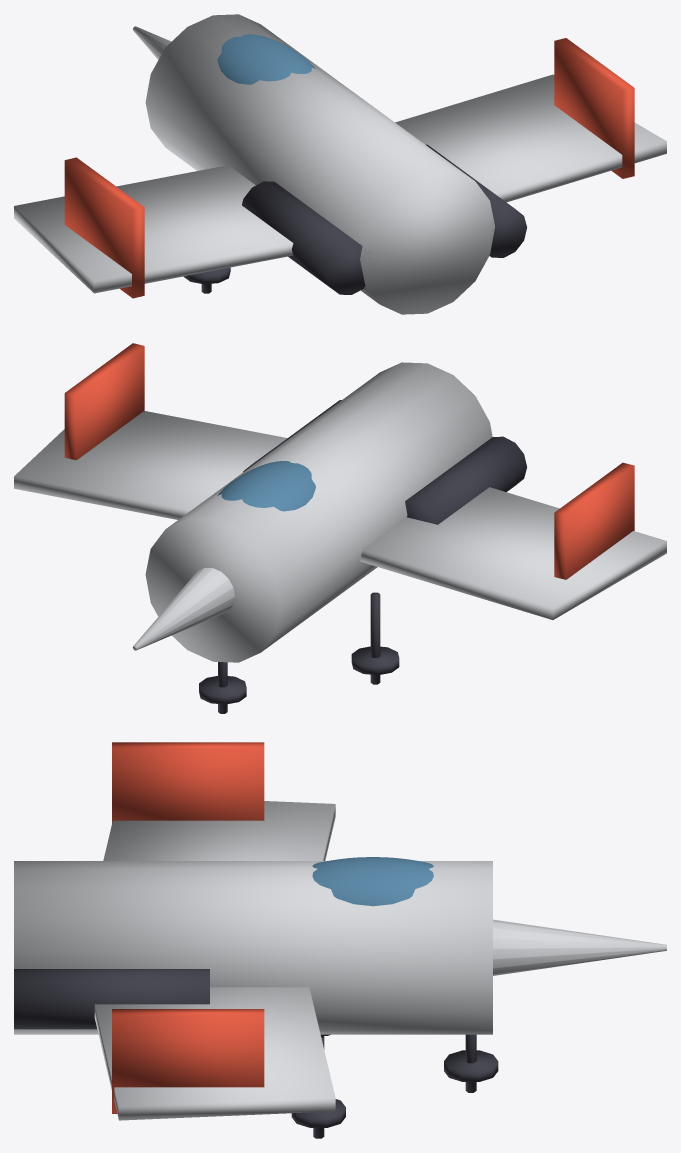
Rendered from ship.glb.
3 renders of one model, top to bottom at view 1: azimuth 30°, elevation 25°; view 2: azimuth 150°, elevation 25°; view 3: azimuth 270°, elevation 25°, orthographic. The views are drawn at different scales.
Visible parts, largest first — view 1: ship; view 2: ship; view 3: ship.
Part boxes in pixels (bbox=[...]): ship: bbox=[14, 14, 666, 314]; ship: bbox=[14, 343, 666, 713]; ship: bbox=[14, 742, 666, 1138].
Size of the model in its own units: 6.78 by 2.3 by 6.
